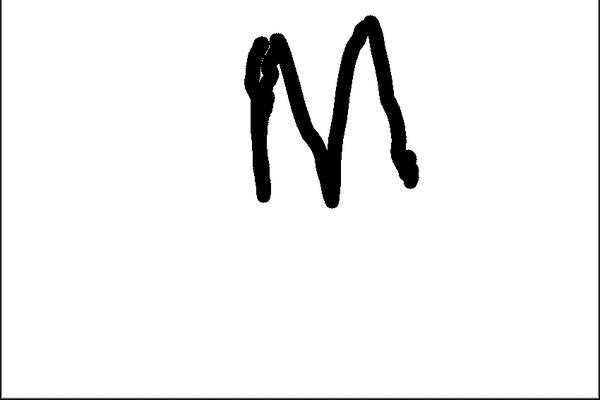M: (244, 11, 422, 211)
